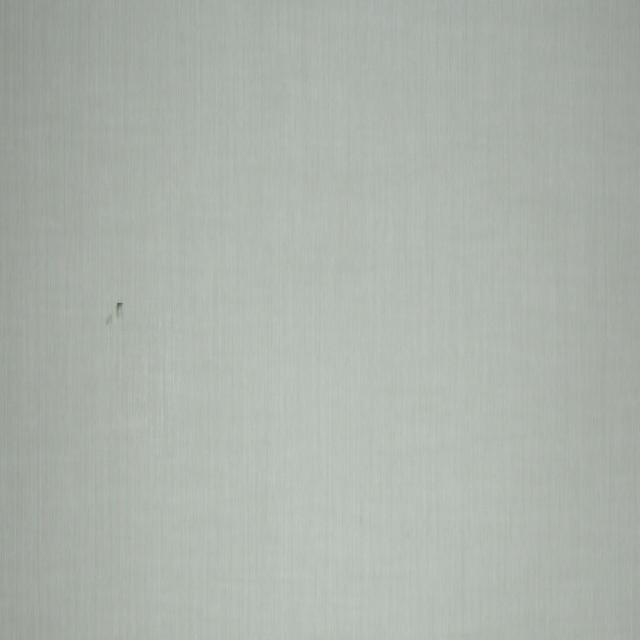dirty: (105, 315, 113, 327), (118, 301, 122, 315)
